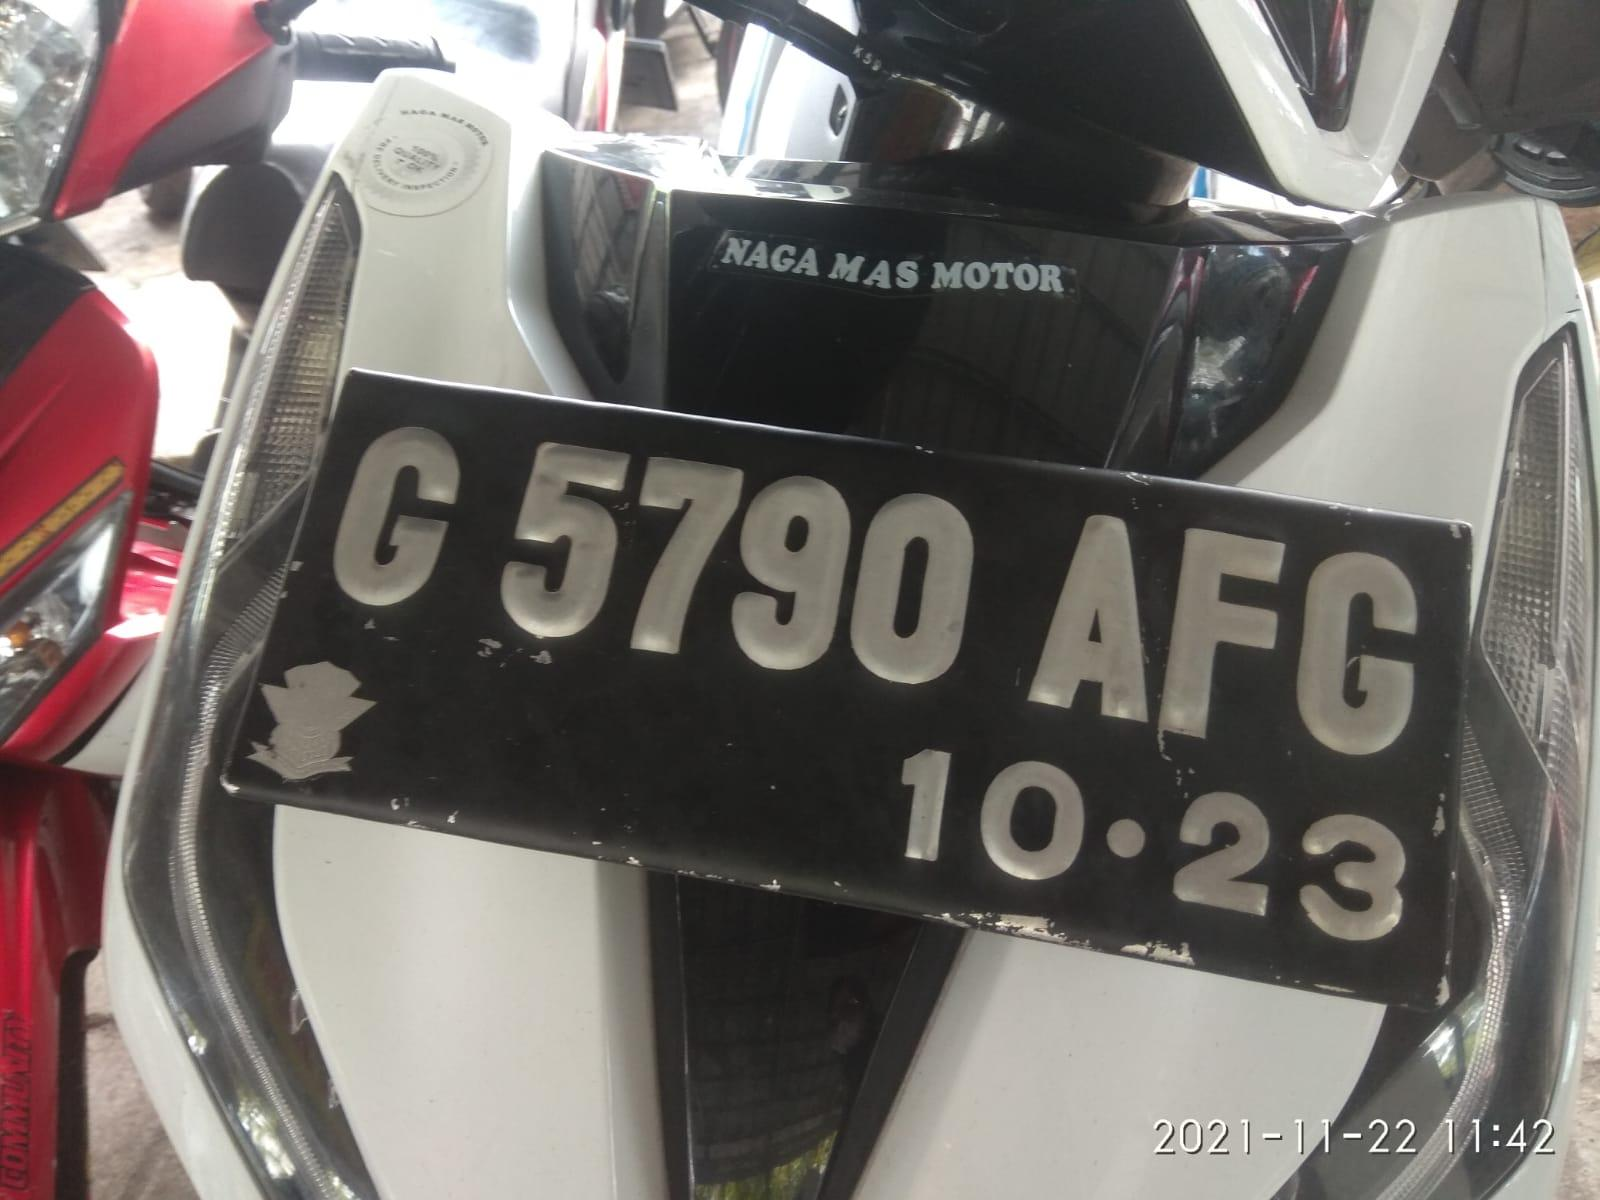plat: (225, 372, 1472, 1006)
